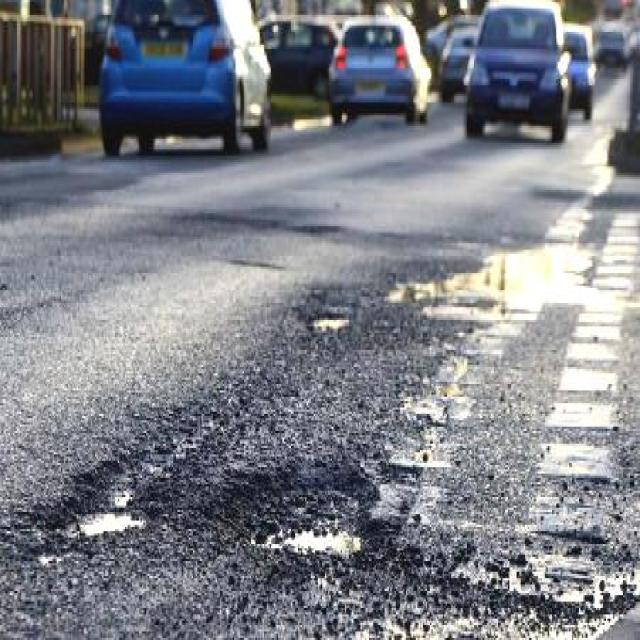pothole: (396, 244, 607, 313), (228, 469, 378, 559), (40, 446, 160, 537), (308, 309, 350, 333)
